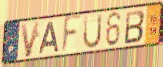6: (105, 11, 122, 49)
A: (38, 20, 60, 55)
B: (124, 9, 146, 46)
F: (60, 13, 83, 57)
U: (81, 13, 103, 51)
V: (19, 20, 41, 59)
